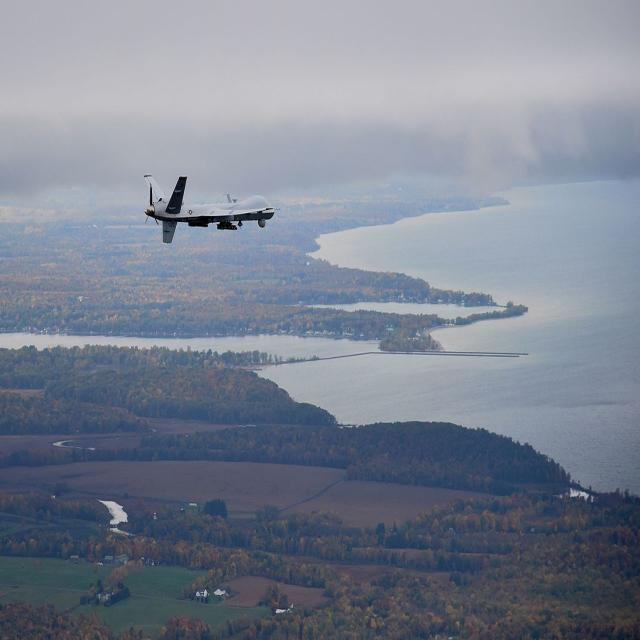MIL_Plane: (162, 172, 262, 244)
